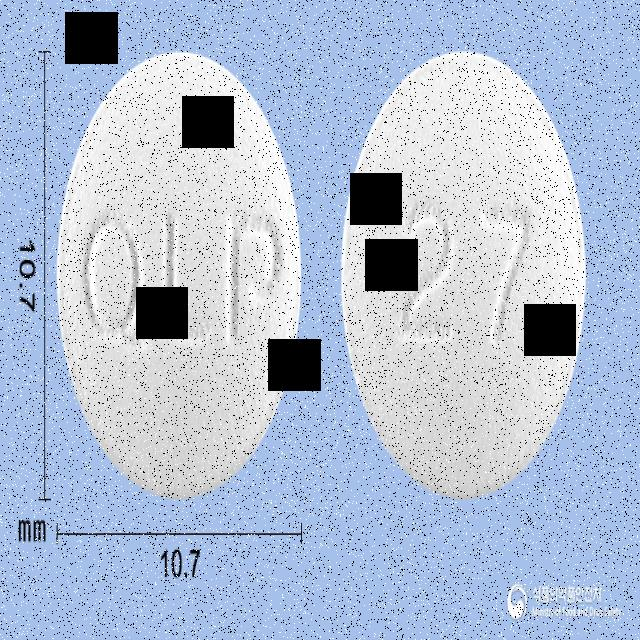Cyrus: (55, 45, 302, 500), (340, 46, 588, 498)
